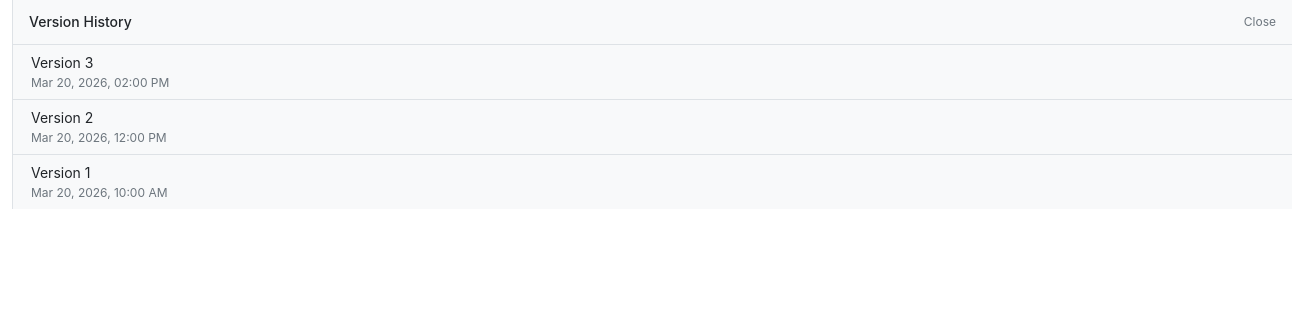
Test: VersionHistory › shows restore button when a version is selected
Click the button with test id "version-item-1" at (58, 172), box [13,155,1292,209]
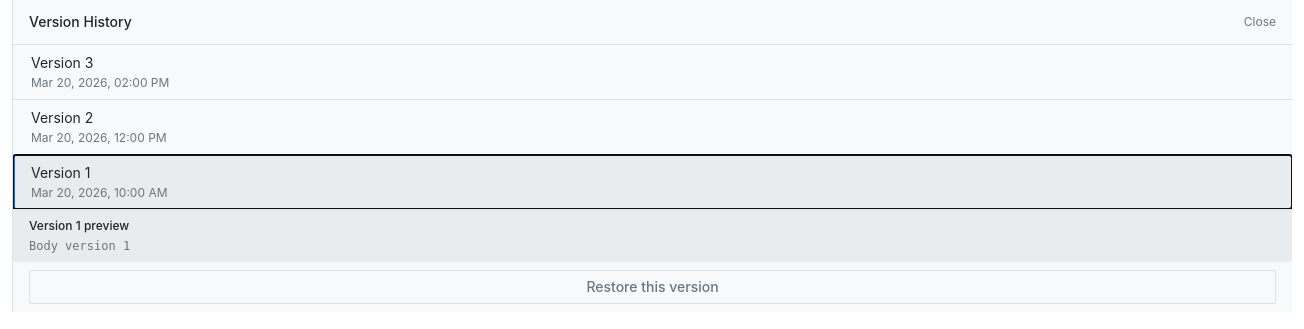
Now the button with test id "version-restore-button" is shown, box [29,270,1276,304]
